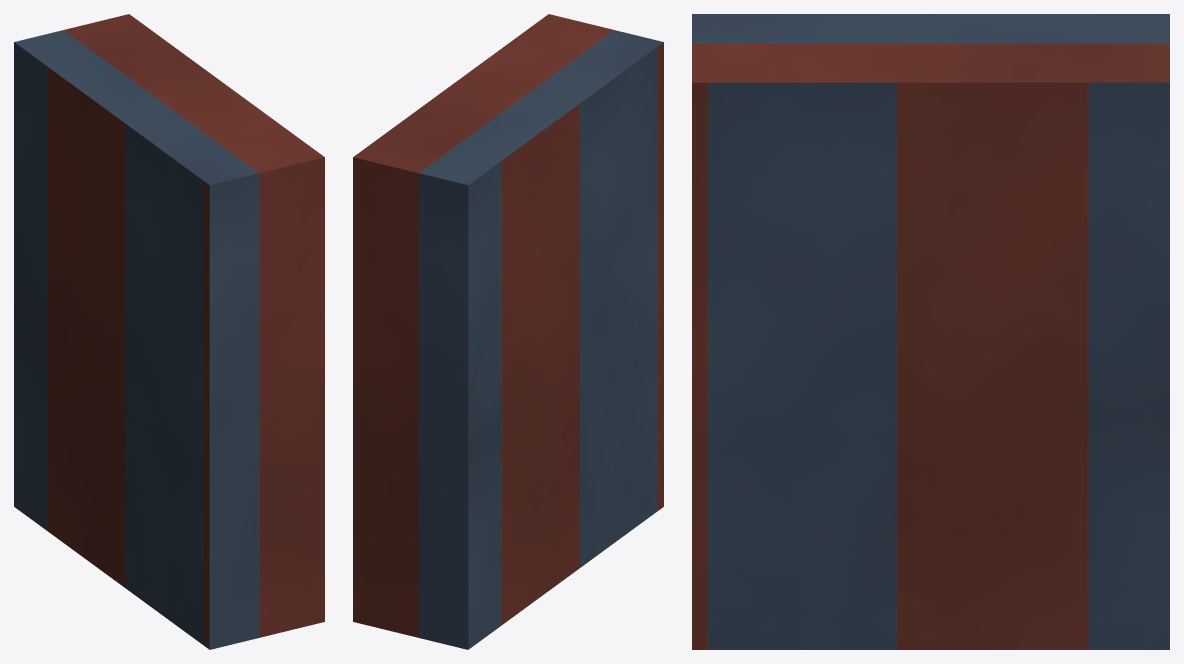
File: Book_Simplified_Single_LOD2.gltf
3 renders of one model, left to right at view 1: azimuth 30°, elevation 25°; view 2: azimuth 150°, elevation 25°; view 3: azimuth 270°, elevation 25°, orthographic. The views are drawn at different scales.
Parts seen in each view (by area): view 1: Book_Simplified_Single_LOD2; view 2: Book_Simplified_Single_LOD2; view 3: Book_Simplified_Single_LOD2.
Part boxes in pixels (bbox=[...]): Book_Simplified_Single_LOD2: bbox=[14, 14, 324, 649]; Book_Simplified_Single_LOD2: bbox=[353, 14, 663, 649]; Book_Simplified_Single_LOD2: bbox=[692, 14, 1169, 649].
Bounding box in the file's own units: 0.07 × 0.27 × 0.2061.
Materials: 1 (1 with a texture image).
